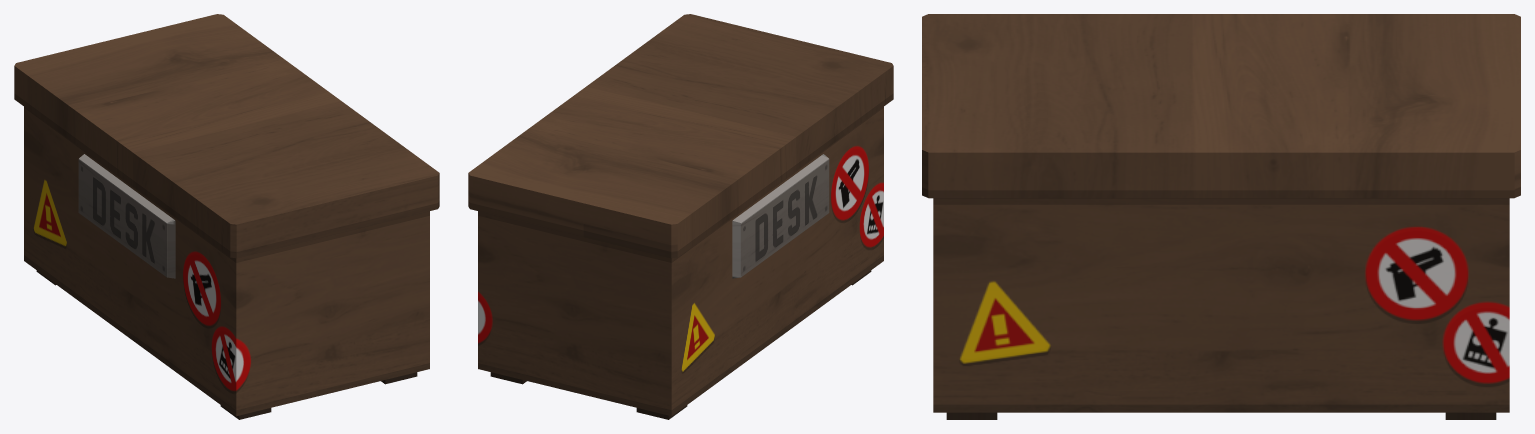
The model's file is DESK_model_01.FBX.
The picture shows the model from 3 angles, left to right: view 1: azimuth 30°, elevation 25°; view 2: azimuth 150°, elevation 25°; view 3: azimuth 270°, elevation 25°; orthographic projection. The views are drawn at different scales.
Parts seen in each view (by area): view 1: Box22; view 2: Box22; view 3: Box22.
Part boxes in pixels (<box>): Box22: <box>14,14,439,419</box>; Box22: <box>468,14,893,419</box>; Box22: <box>922,14,1520,419</box>.
Bounding box in the file's own units: 97.61 × 91.27 × 178.
1 material, 1 textured.
